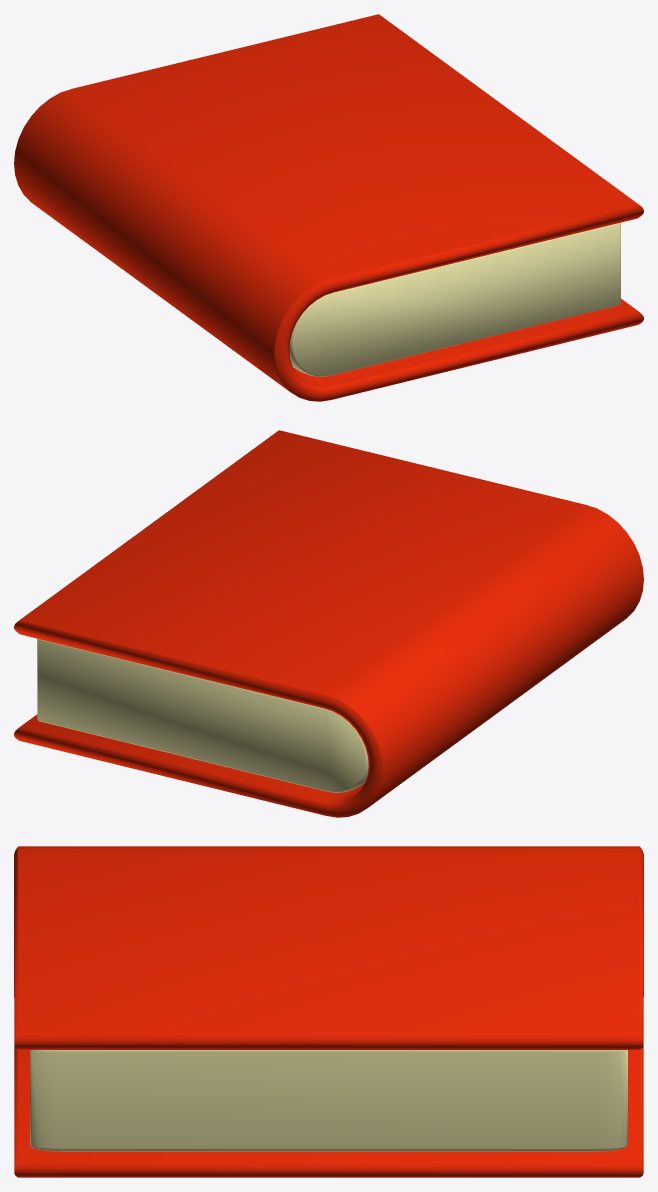
File: bookhardcover.fbx
3 renders of one model, top to bottom at view 1: azimuth 30°, elevation 25°; view 2: azimuth 150°, elevation 25°; view 3: azimuth 270°, elevation 25°, orthographic. The views are drawn at different scales.
Parts seen in each view (by area): view 1: Cylinder.001, Cylinder; view 2: Cylinder.001, Cylinder; view 3: Cylinder.001, Cylinder.
Part boxes in pixels (x1,y1,x2,y2): Cylinder.001: (14,14,643,401); Cylinder: (289,222,620,376); Cylinder.001: (14,430,643,817); Cylinder: (37,638,368,792); Cylinder.001: (14,846,643,1177); Cylinder: (30,1050,627,1151).
Size of the model in its own units: 100 by 31.54 by 124.
